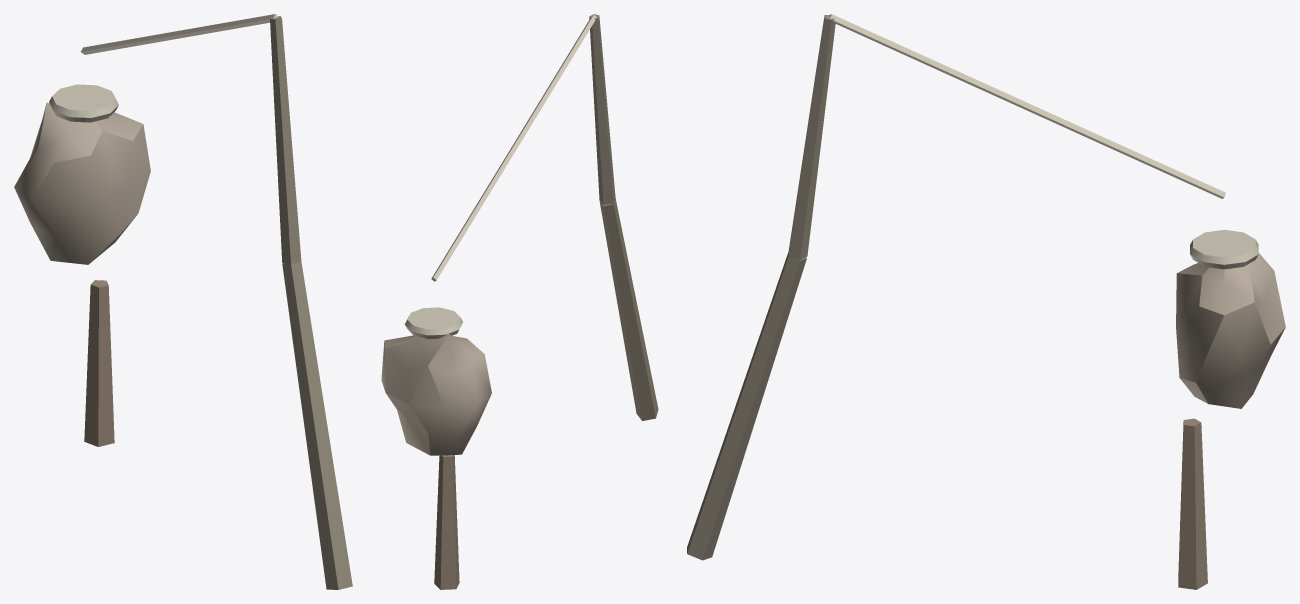
Rendered from snare_sprung.gltf.
3 renders of one model, left to right at view 1: azimuth 30°, elevation 25°; view 2: azimuth 150°, elevation 25°; view 3: azimuth 270°, elevation 25°, orthographic. The views are drawn at different scales.
Visible parts, largest first — view 1: Body; view 2: Body; view 3: Body.
Part boxes in pixels (box(x1,y1,x2,y2)): Body: box(14, 14, 352, 589); Body: box(381, 14, 658, 589); Body: box(687, 14, 1285, 589).
Bounding box in the file's own units: 0.2167 × 0.9554 × 0.9105.
